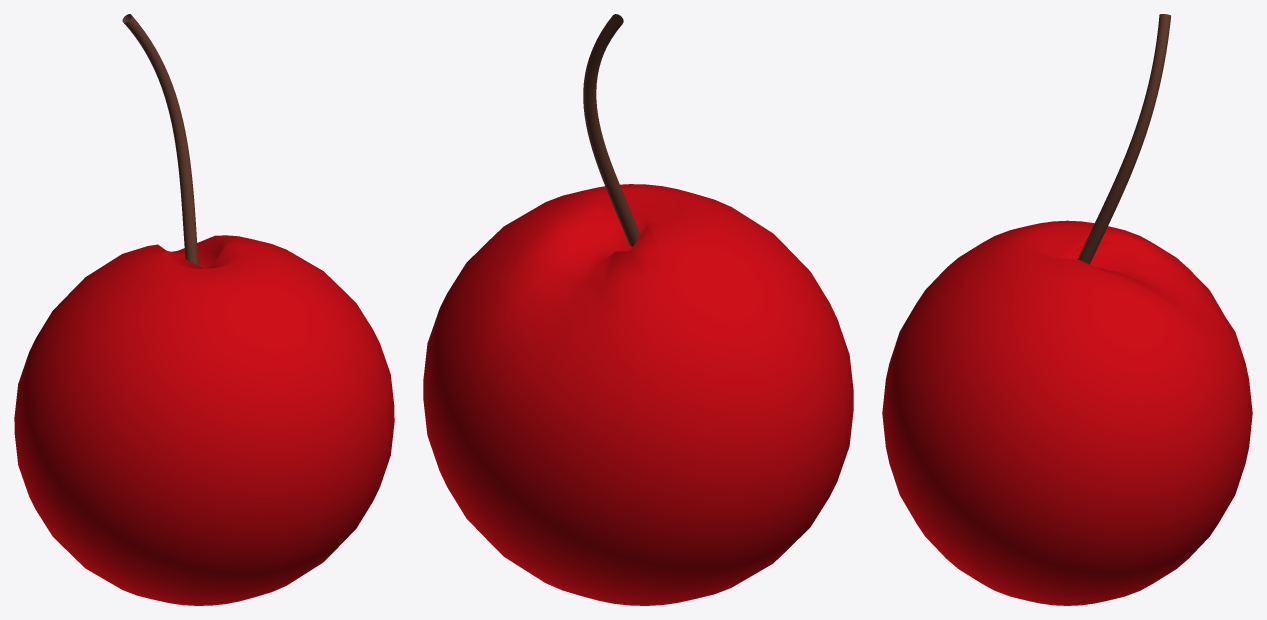
The model's file is cherry.glb.
The picture shows the model from 3 angles, left to right: view 1: azimuth 30°, elevation 25°; view 2: azimuth 150°, elevation 25°; view 3: azimuth 270°, elevation 25°; orthographic projection. The views are drawn at different scales.
Parts seen in each view (by area): view 1: Sphere, NurbsPath; view 2: Sphere, NurbsPath; view 3: Sphere, NurbsPath.
Boxes of the visible parts, box(x1,y1,x2,y2) form: Sphere: box(14, 235, 394, 605); NurbsPath: box(122, 14, 198, 265); Sphere: box(423, 184, 853, 605); NurbsPath: box(583, 14, 640, 246); Sphere: box(882, 220, 1252, 605); NurbsPath: box(1077, 14, 1170, 264).
Size of the model in its own units: 1.53 by 2.37 by 1.42.
